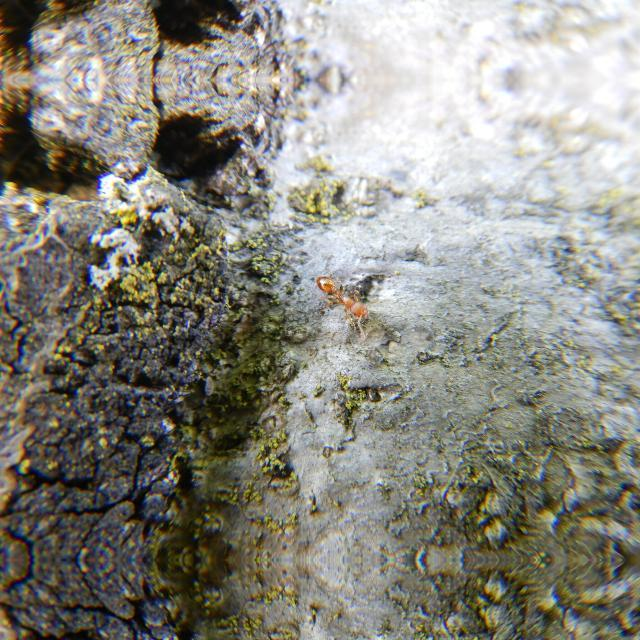Temnothorax: (310, 269, 382, 325)
